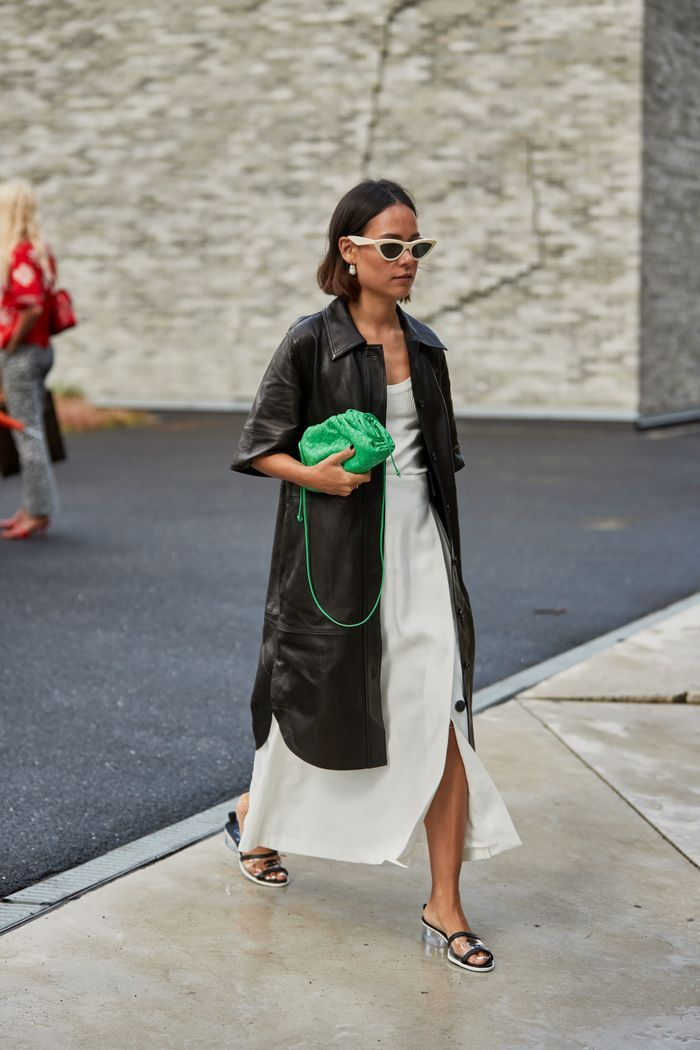Person: (213, 165, 545, 993)
